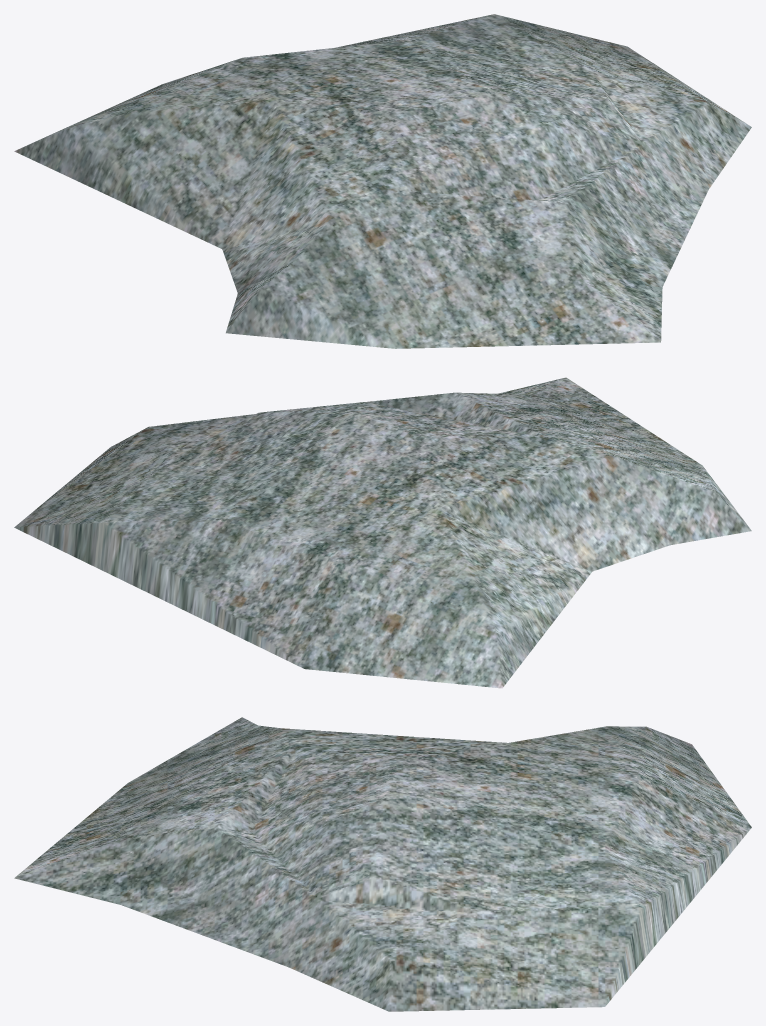
The model's file is rock_graniteslab_medium_a1_l1.fbx.
3 renders of one model, top to bottom at view 1: azimuth 30°, elevation 25°; view 2: azimuth 150°, elevation 25°; view 3: azimuth 270°, elevation 25°, orthographic. The views are drawn at different scales.
Parts seen in each view (by area): view 1: mesh_node; view 2: mesh_node; view 3: mesh_node.
Boxes of the visible parts, x1,y1,x2,y2 form: mesh_node: (14,14,751,348); mesh_node: (14,377,751,688); mesh_node: (14,717,751,1011).
Size of the model in its own units: 1.54 by 0.2375 by 1.71.
